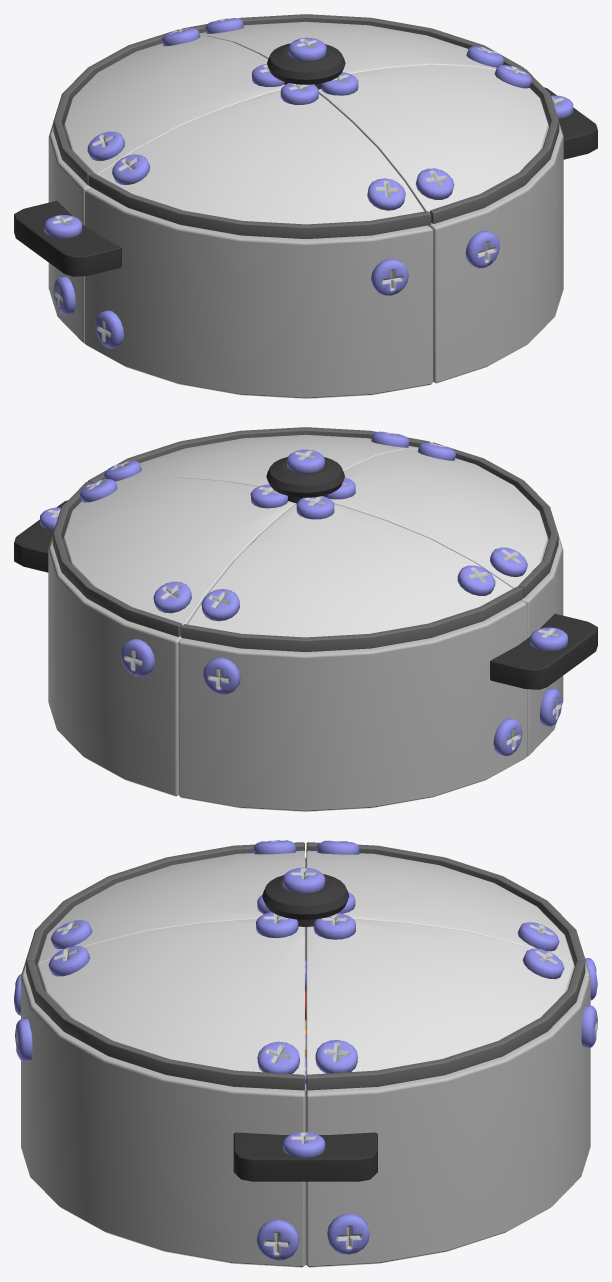
File: Level_Xoong.fbx
3 views of the same model, one above another, from view 1: azimuth 30°, elevation 25°; view 2: azimuth 150°, elevation 25°; view 3: azimuth 270°, elevation 25° (orthographic). The views are drawn at different scales.
Visible parts, largest first — view 1: Xoong_3, Xoong_6, Xoong_28, Xoong_30, Xoong_7, Xoong_29, Xoong_1, Xoong_4, Xoong_18, Xoong_34, Screw 83.006, Screw 106.006 (+13 smaller); view 2: Xoong_4, Xoong_7, Xoong_29, Xoong_31, Xoong_6, Xoong_28, Xoong_1, Xoong_3, Xoong_18, Xoong_34, Screw 89.006, Screw 116.006 (+12 smaller); view 3: Xoong_31, Xoong_30, Xoong_28, Xoong_29, Xoong_7, Xoong_6, Xoong_34, Xoong_18, Screw 117.006, Screw 107.006, Screw 105.006, Screw 101.006 (+11 smaller).
Part boxes in pixels (<box>): Xoong_3: <box>85,188,433,398</box>; Xoong_6: <box>88,90,431,239</box>; Xoong_28: <box>318,64,559,223</box>; Xoong_30: <box>428,123,563,383</box>; Xoong_7: <box>53,29,284,184</box>; Xoong_29: <box>181,14,523,73</box>; Xoong_1: <box>14,200,121,276</box>; Xoong_4: <box>48,123,91,343</box>; Xoong_18: <box>267,43,345,89</box>; Xoong_34: <box>544,87,597,159</box>; Screw 83.006: <box>371,258,408,295</box>; Screw 106.006: <box>465,230,499,268</box>; Xoong_4: <box>178,601,526,811</box>; Xoong_7: <box>180,504,523,652</box>; Xoong_29: <box>52,477,296,636</box>; Xoong_31: <box>48,536,183,796</box>; Xoong_6: <box>330,442,558,597</box>; Xoong_28: <box>88,427,430,486</box>; Xoong_1: <box>490,613,597,689</box>; Xoong_3: <box>520,536,563,756</box>; Xoong_18: <box>266,457,344,503</box>; Xoong_34: <box>14,500,67,572</box>; Screw 89.006: <box>203,657,240,694</box>; Screw 116.006: <box>120,639,154,676</box>; Xoong_31: <box>305,976,590,1267</box>; Xoong_30: <box>21,976,305,1267</box>; Xoong_28: <box>26,919,304,1090</box>; Xoong_29: <box>306,919,585,1090</box>; Xoong_7: <box>306,842,585,967</box>; Xoong_6: <box>26,842,304,966</box>; Xoong_34: <box>233,1132,377,1181</box>; Xoong_18: <box>262,874,349,926</box>; Screw 117.006: <box>327,1213,369,1254</box>; Screw 107.006: <box>256,1219,299,1260</box>; Screw 105.006: <box>315,1040,357,1073</box>; Screw 101.006: <box>257,1041,299,1073</box>.
Size of the model in its own units: 5.29 by 2.45 by 4.53.
